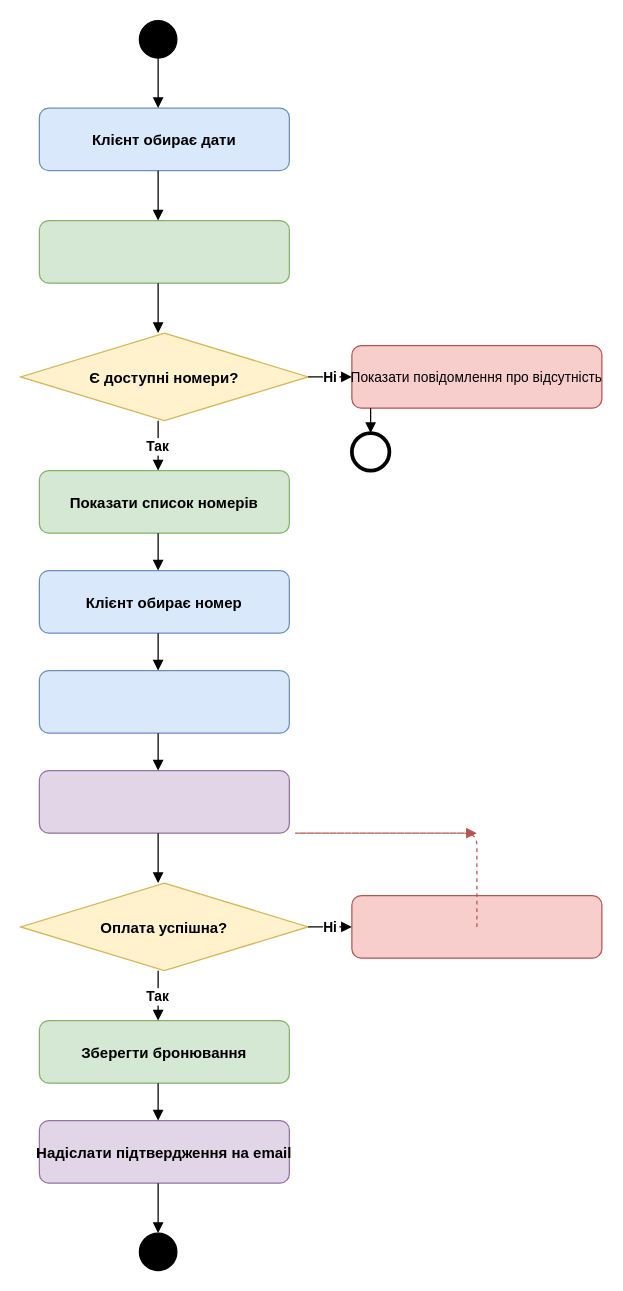
Some shapes in this 623 by 1291 pixel diagram are drawn without their labels. Each missing label, with the box of its shape:
Клієнт вводить дані: (38, 669, 289, 733)
Оплата: (38, 769, 289, 833)
Показати помилку оплати: (351, 894, 602, 958)
Система шукає номери: (38, 219, 289, 283)
